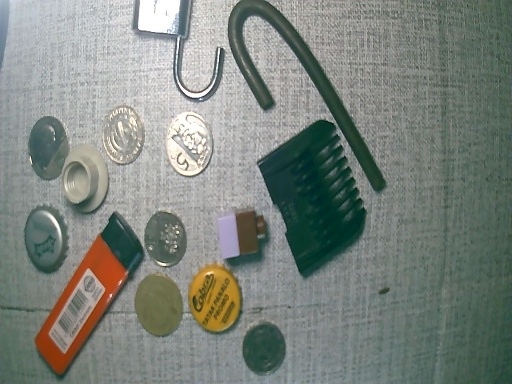metal: (286, 9, 391, 193), (129, 1, 232, 105), (226, 1, 286, 116), (187, 268, 242, 331), (135, 273, 183, 340), (166, 111, 213, 178), (24, 116, 70, 182), (143, 210, 187, 268), (25, 205, 64, 269), (103, 106, 143, 166), (242, 324, 286, 374)
trash: (31, 207, 145, 377), (261, 117, 367, 278), (218, 205, 267, 264), (63, 150, 107, 214)
